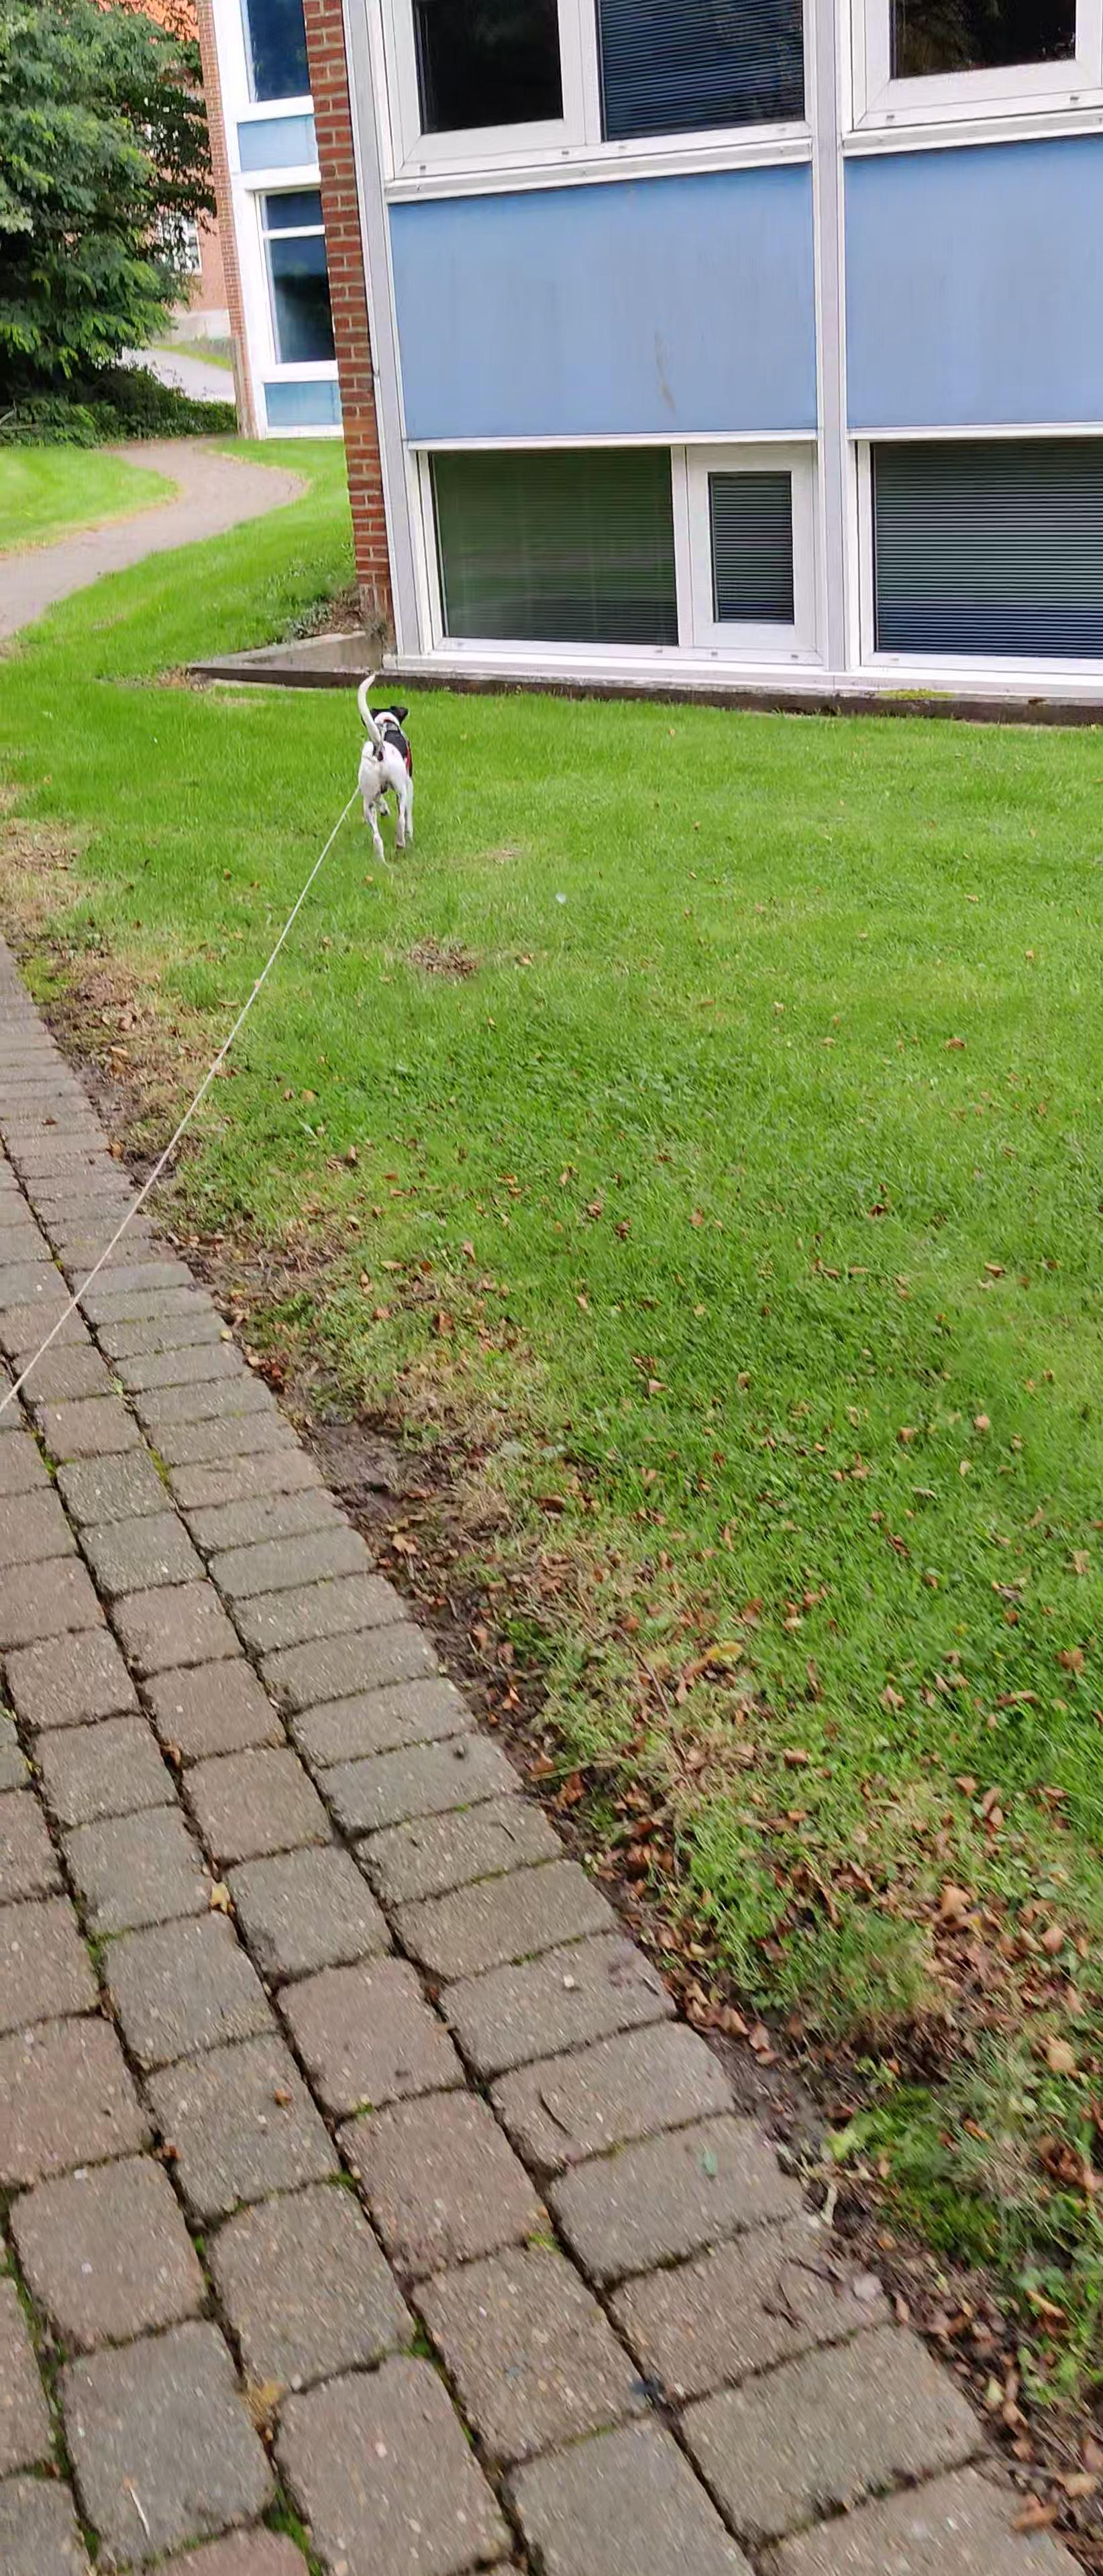Dog: (348, 665, 424, 866)
